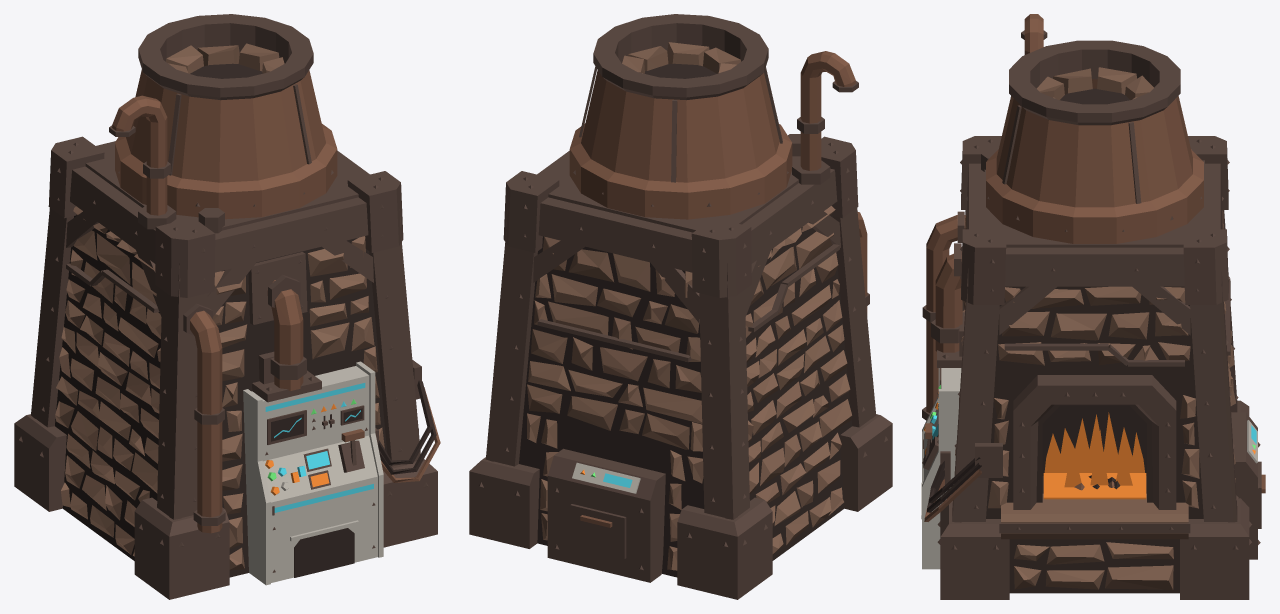
File: stone_furnace.obj
3 views of the same model, side by side, from view 1: azimuth 30°, elevation 25°; view 2: azimuth 150°, elevation 25°; view 3: azimuth 270°, elevation 25° (orthographic).
Parts seen in each view (by area): view 1: body; view 2: body; view 3: body.
Part boxes in pixels (x1,y1,x2,y2): body: [14, 14, 440, 599]; body: [469, 14, 892, 599]; body: [921, 14, 1265, 599].
Bounding box in the file's own units: 9.64 × 14.67 × 9.92.
